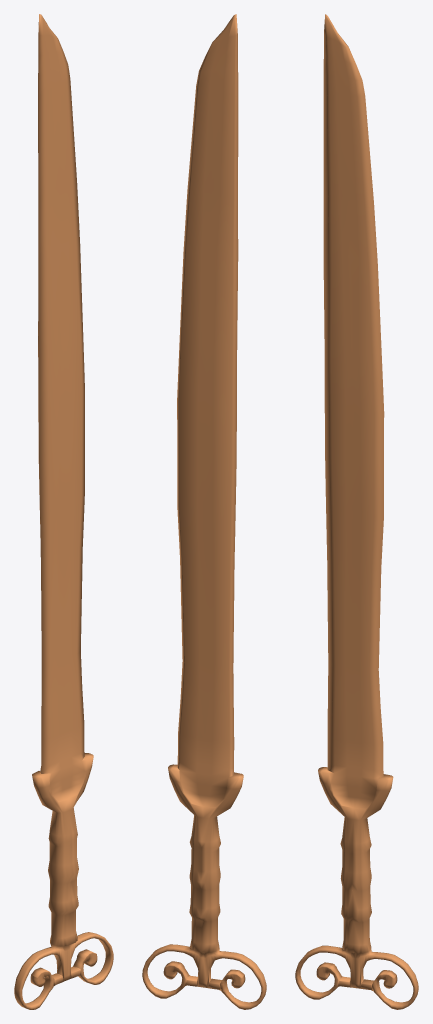
Rendered from AntannaeSword.fbx.
3 views of the same model, side by side, from view 1: azimuth 30°, elevation 25°; view 2: azimuth 150°, elevation 25°; view 3: azimuth 330°, elevation 25° (orthographic).
Parts seen in each view (by area): view 1: Cube; view 2: Cube; view 3: Cube.
Boxes of the visible parts, x1=… form: Cube: x1=14, y1=14, x2=113, y2=1009; Cube: x1=142, y1=14, x2=266, y2=1009; Cube: x1=295, y1=14, x2=418, y2=1009.
Bounding box in the file's own units: 54.16 × 470 × 15.84.
